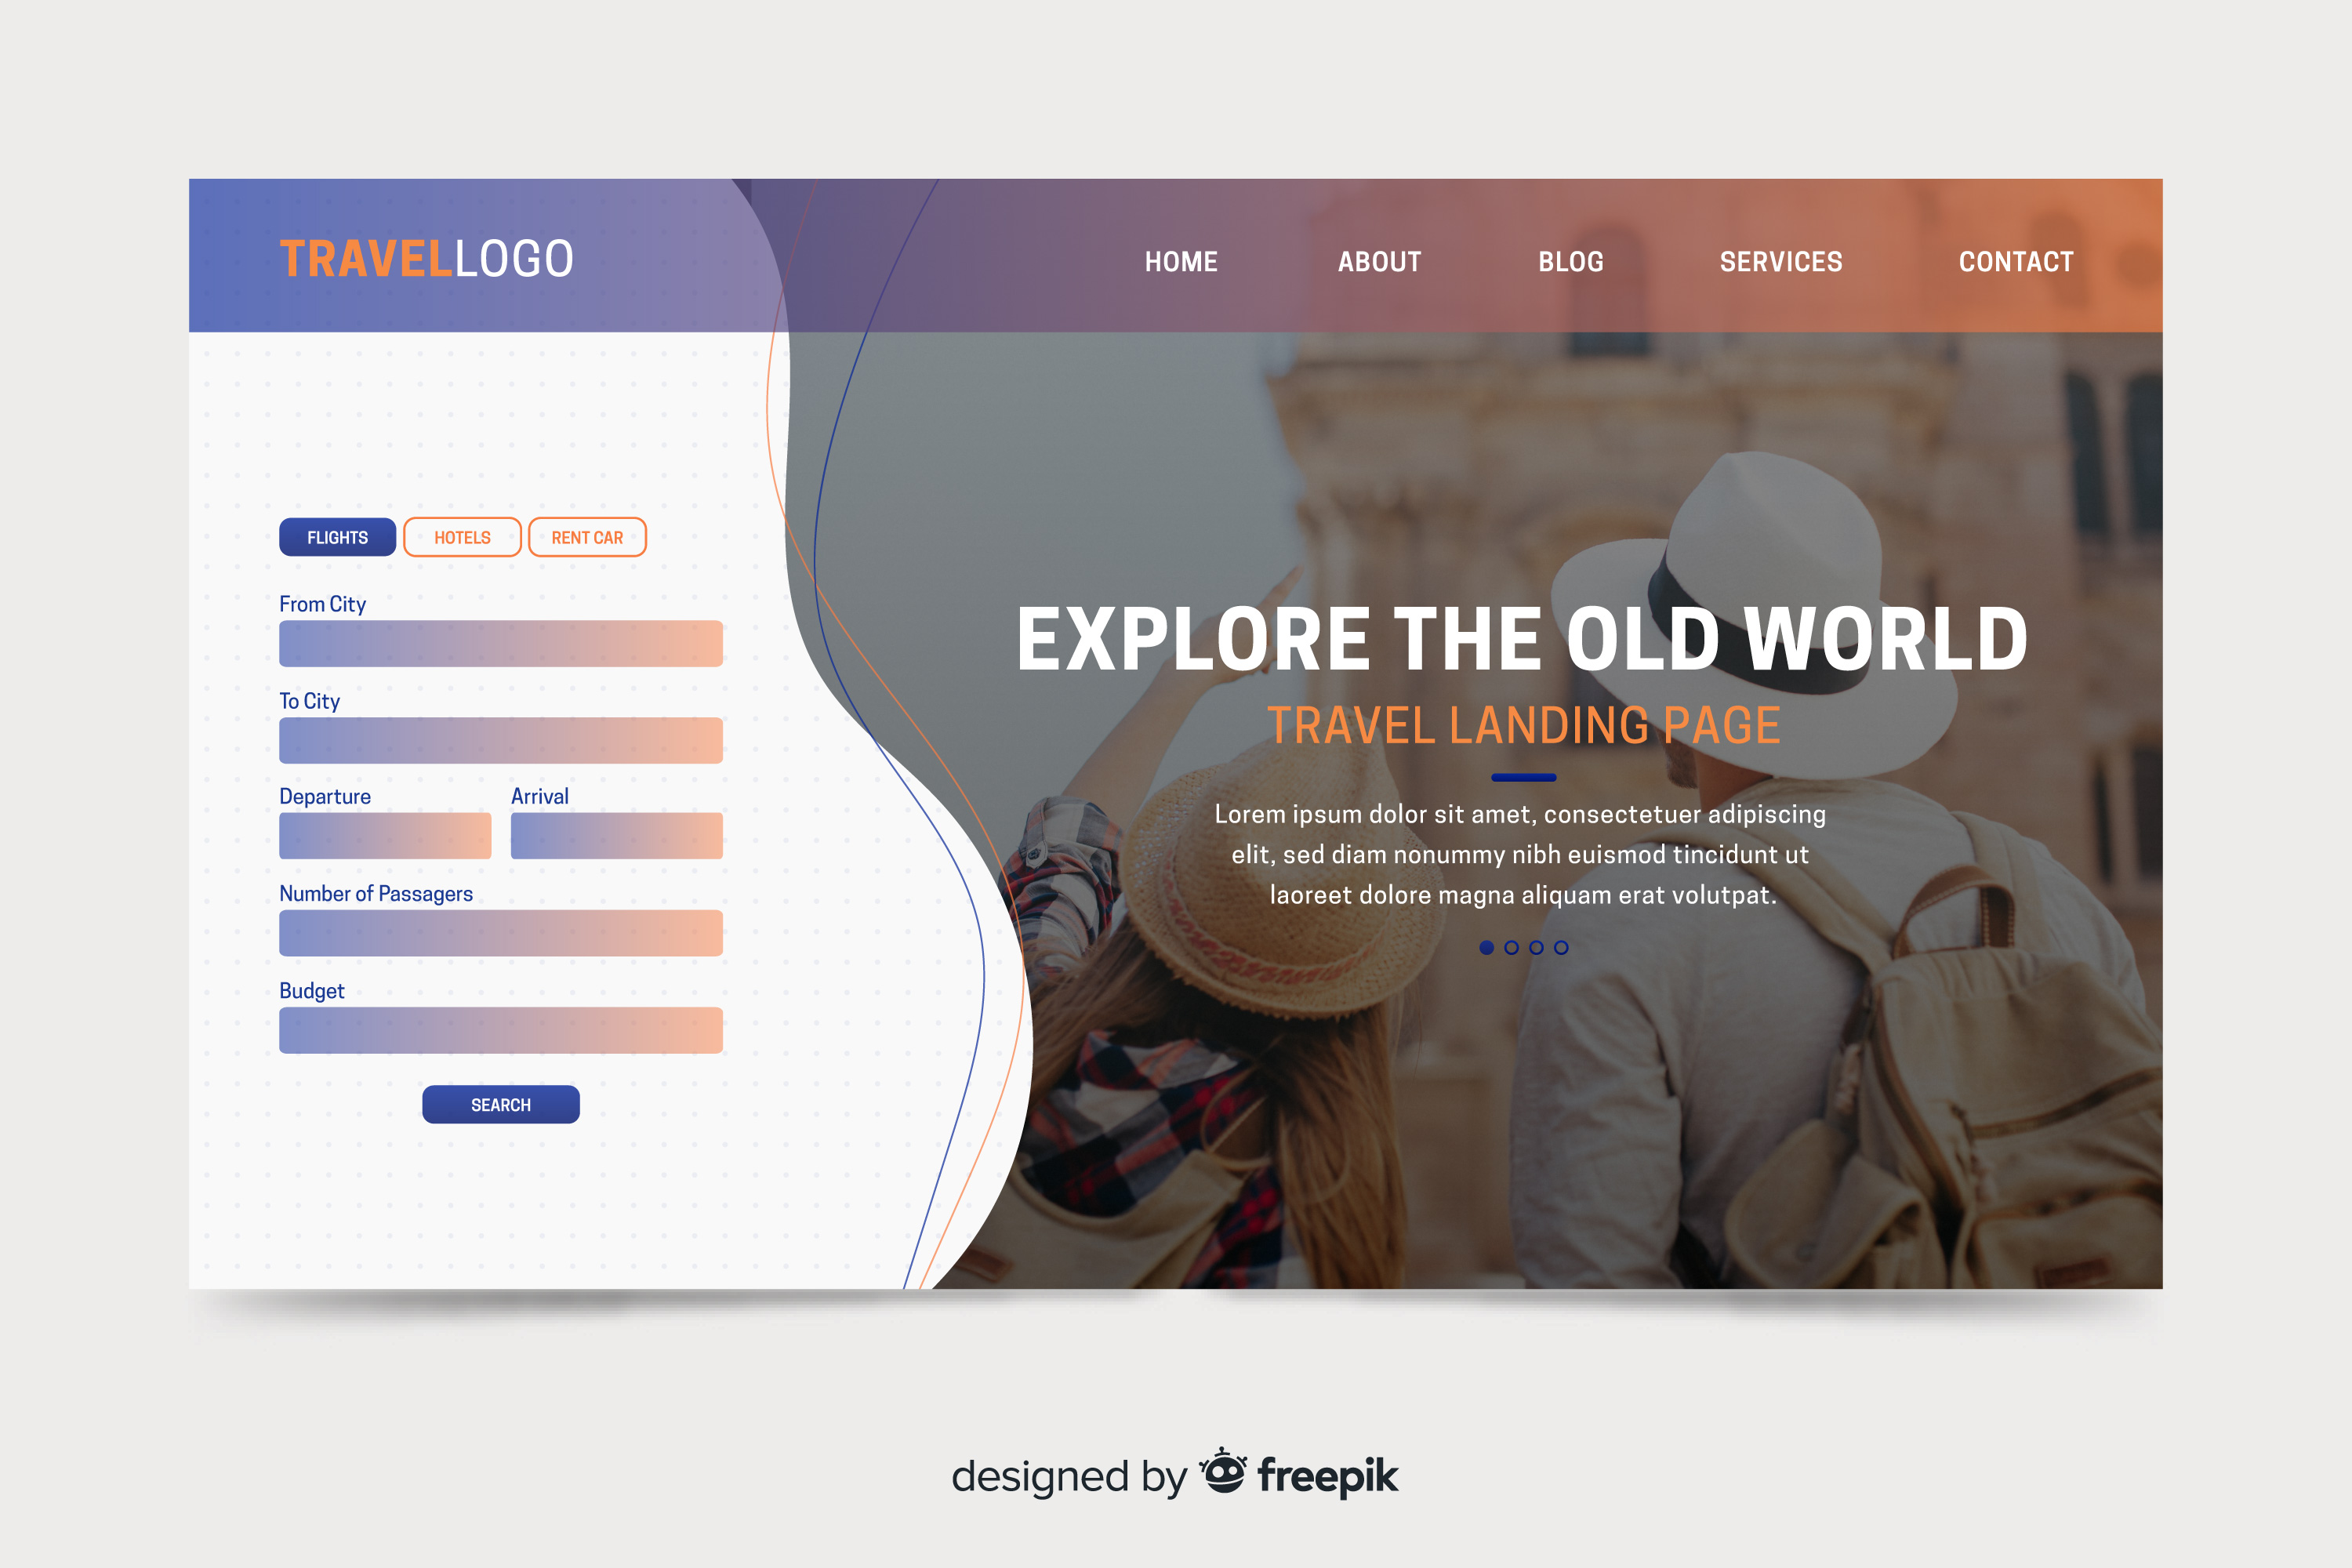menu-bar: (222, 212, 2142, 401)
